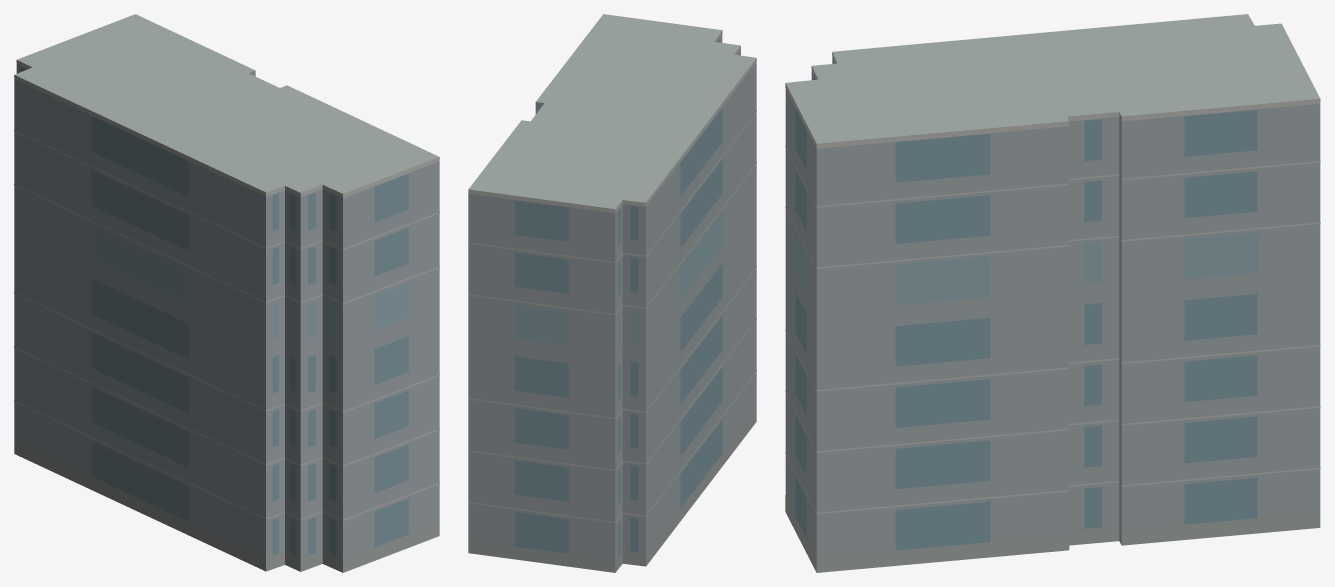
The model's file is survey-upis-32991099.glb.
3 views of the same model, side by side, from view 1: azimuth 30°, elevation 25°; view 2: azimuth 150°, elevation 25°; view 3: azimuth 270°, elevation 25° (orthographic). The views are drawn at different scales.
Visible parts, largest first — view 1: survey-upis-32991099.tmp; view 2: survey-upis-32991099.tmp; view 3: survey-upis-32991099.tmp.
Boxes of the visible parts, box(x1,y1,x2,y2) form: survey-upis-32991099.tmp: box(14, 14, 439, 572); survey-upis-32991099.tmp: box(468, 14, 756, 572); survey-upis-32991099.tmp: box(785, 14, 1320, 572).
Size of the model in its own units: 13.52 by 20.8 by 23.52.
